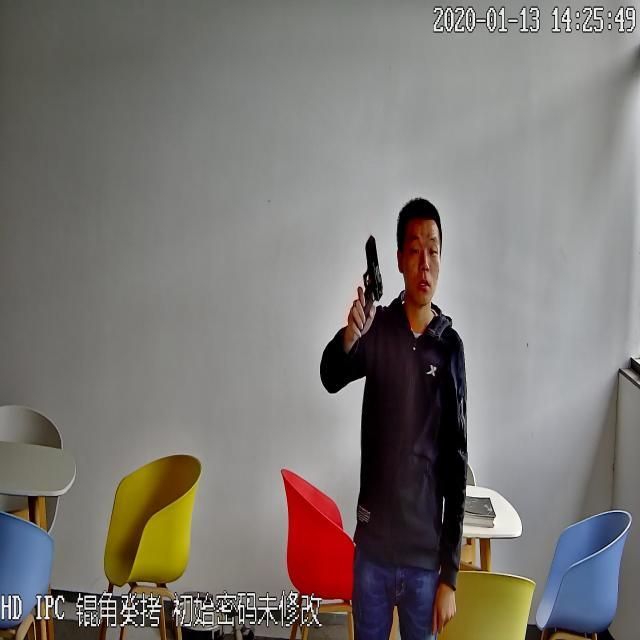gun-knife-thesis - v11 Yolov5 augmented: (340, 222, 384, 348)
